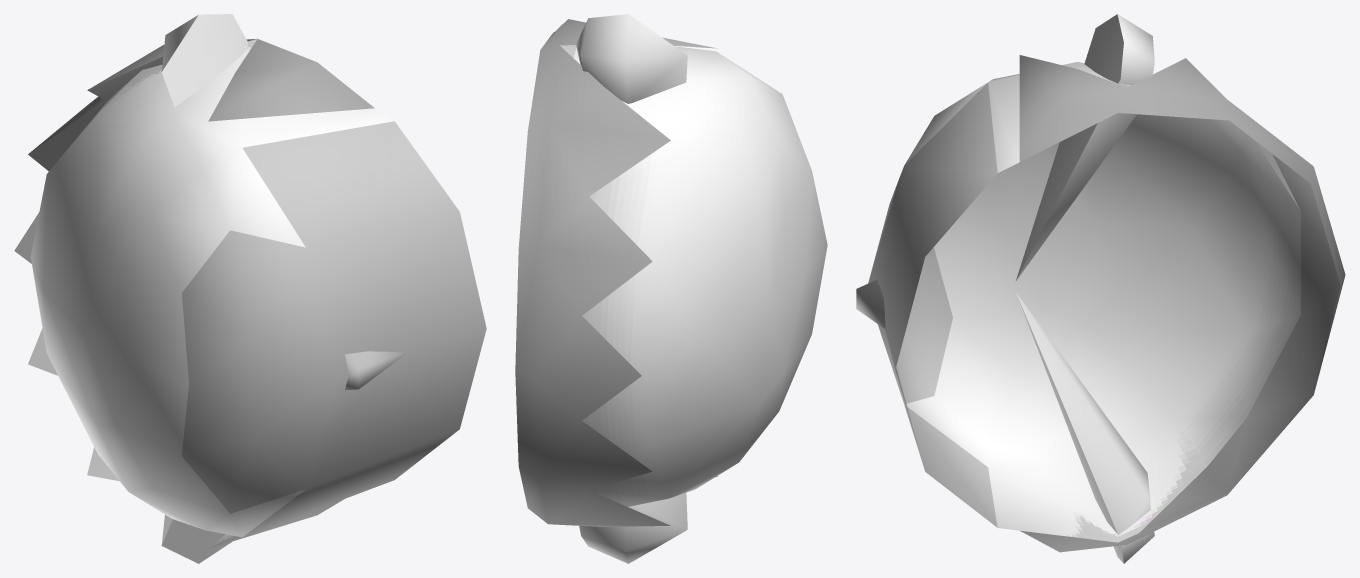
Rendered from boy09b.dae.
The picture shows the model from 3 angles, left to right: view 1: azimuth 30°, elevation 25°; view 2: azimuth 150°, elevation 25°; view 3: azimuth 270°, elevation 25°; orthographic projection.
Visible parts, largest first — view 1: vsn_mesh_0_, vsn_mesh_1_, vsn_mesh_2_; view 2: vsn_mesh_0_; view 3: vsn_mesh_0_, vsn_mesh_1_, vsn_mesh_2_.
Part boxes in pixels (x1,y1,x2,y2): vsn_mesh_0_: [14, 14, 394, 563]; vsn_mesh_1_: [242, 121, 486, 536]; vsn_mesh_2_: [182, 230, 335, 513]; vsn_mesh_0_: [515, 14, 827, 563]; vsn_mesh_0_: [905, 14, 1345, 563]; vsn_mesh_1_: [856, 83, 997, 527]; vsn_mesh_2_: [868, 167, 952, 403].
Bounding box in the file's own units: 15.5 × 26.71 × 21.81.
3 materials, 1 textured.
